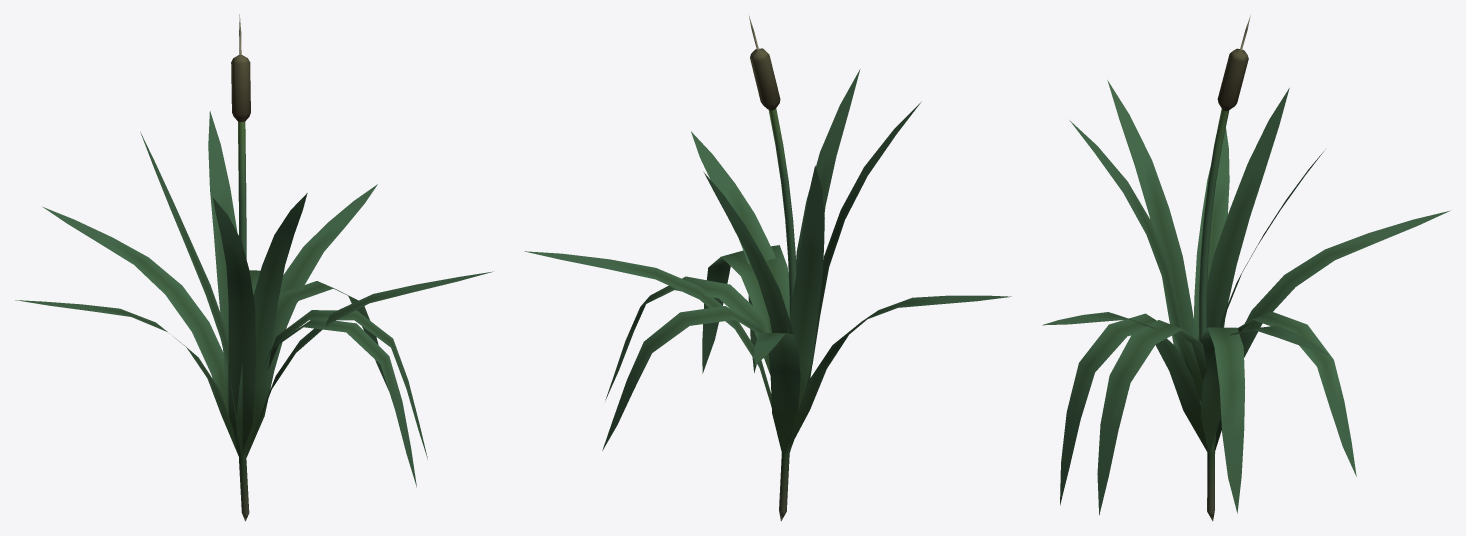
Rendered from plants-grasses-reeds-cattail_v3.fbx.
3 views of the same model, side by side, from view 1: azimuth 30°, elevation 25°; view 2: azimuth 150°, elevation 25°; view 3: azimuth 270°, elevation 25° (orthographic). The views are drawn at different scales.
Visible parts, largest first — view 1: Cattail_v3; view 2: Cattail_v3; view 3: Cattail_v3.
Boxes of the visible parts, x1,y1,x2,y2 form: Cattail_v3: [15, 14, 492, 521]; Cattail_v3: [524, 16, 1011, 521]; Cattail_v3: [1042, 15, 1450, 521].
Bounding box in the file's own units: 1.32 × 1.5 × 1.08.
